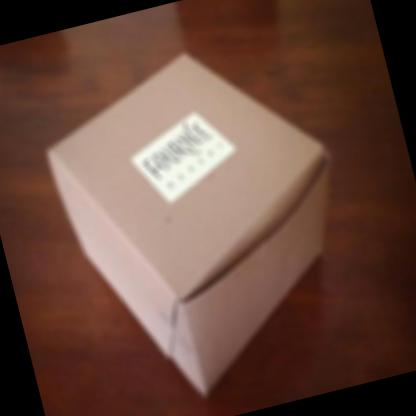box: (21, 26, 384, 408)
